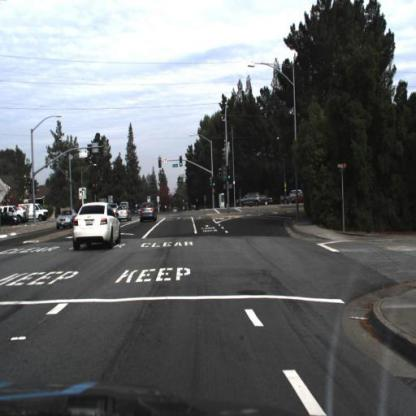car: (74, 199, 121, 248), (133, 199, 158, 230), (25, 198, 50, 222), (55, 207, 79, 232), (55, 208, 76, 233), (234, 192, 261, 210), (235, 191, 262, 209), (139, 202, 157, 225), (117, 203, 134, 227), (277, 188, 296, 208), (290, 191, 307, 208), (262, 191, 275, 209), (119, 207, 132, 223)
trafficLight-Green: (227, 165, 235, 188), (178, 158, 186, 171), (226, 174, 233, 186), (212, 178, 217, 192)
trafficLight-Red: (90, 178, 97, 196), (157, 153, 163, 168)
